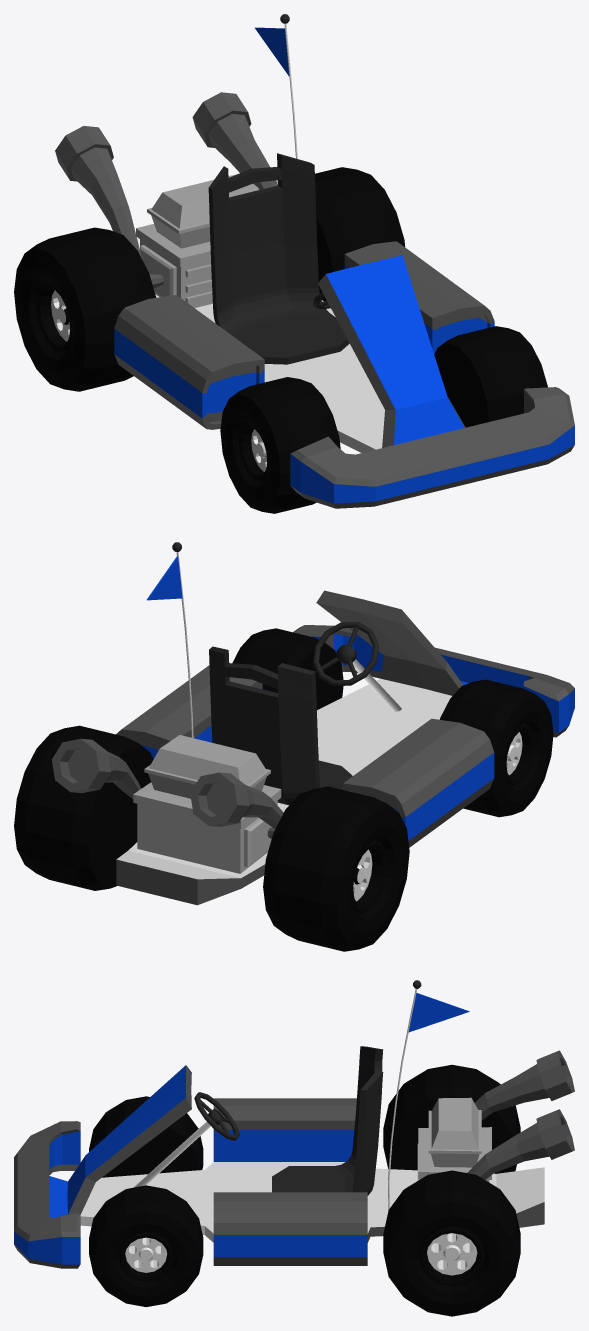
File: GoKartNew.fbx
3 views of the same model, one above another, from view 1: azimuth 30°, elevation 25°; view 2: azimuth 150°, elevation 25°; view 3: azimuth 270°, elevation 25° (orthographic). The views are drawn at different scales.
Visible parts, largest first — view 1: Kart Body, Wheel Rear Right, Wheel Front Right, Wheel Front Left, Wheel Rear Left, Flag; view 2: Kart Body, Wheel Rear Right, Wheel Rear Left, Wheel Front Right, Wheel Front Left, Steering Wheel, Flag; view 3: Kart Body, Wheel Rear Left, Wheel Front Left, Wheel Rear Right, Wheel Front Right, Flag, Steering Wheel.
Part boxes in pixels (<box>): Kart Body: <box>55,92,574,508</box>; Wheel Rear Right: <box>14,227,156,391</box>; Wheel Front Right: <box>220,377,340,513</box>; Wheel Front Left: <box>434,326,547,427</box>; Wheel Rear Left: <box>315,167,405,300</box>; Flag: <box>255,14,297,158</box>; Kart Body: <box>52,590,574,905</box>; Wheel Rear Right: <box>263,786,409,951</box>; Wheel Rear Left: <box>14,725,153,890</box>; Wheel Front Right: <box>440,679,553,817</box>; Wheel Front Left: <box>232,628,343,709</box>; Steering Wheel: <box>313,622,401,711</box>; Flag: <box>146,542,193,737</box>; Kart Body: <box>14,1046,574,1268</box>; Wheel Rear Left: <box>383,1170,520,1316</box>; Wheel Front Left: <box>89,1185,203,1307</box>; Wheel Rear Right: <box>383,1064,520,1173</box>; Wheel Front Right: <box>89,1096,203,1177</box>; Flag: <box>388,980,469,1210</box>; Steering Wheel: <box>134,1092,239,1187</box>.
Size of the model in its own units: 1.87 by 3.18 by 1.85.
